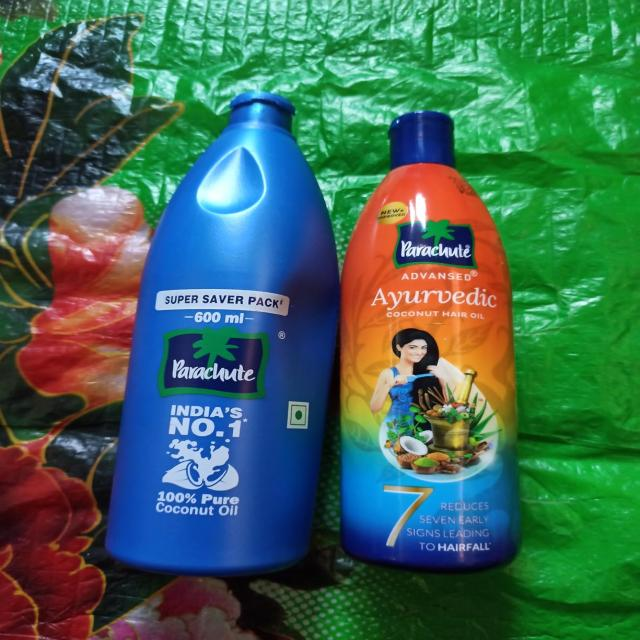parachute_oil: (107, 66, 338, 582)
